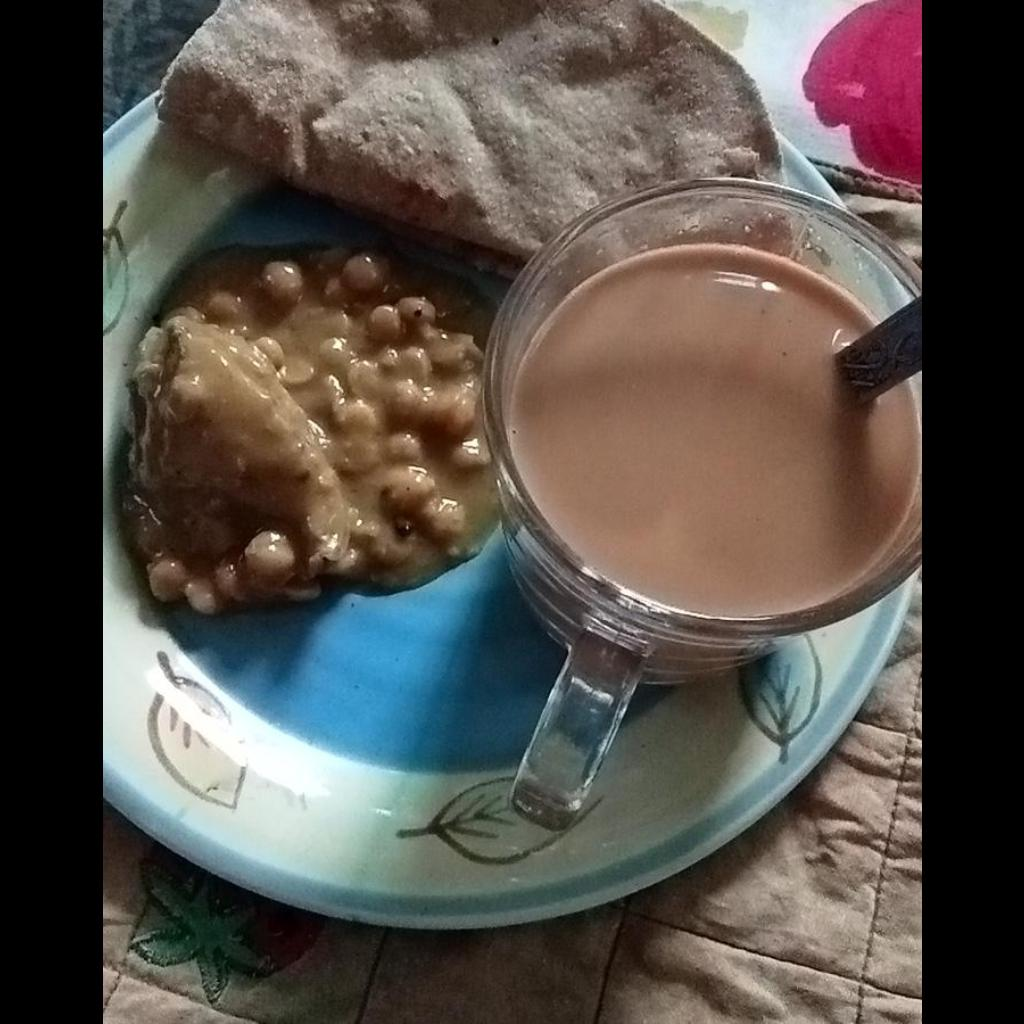cha: (506, 244, 910, 617)
daal: (115, 254, 485, 615)
ruti: (152, 0, 787, 255)
